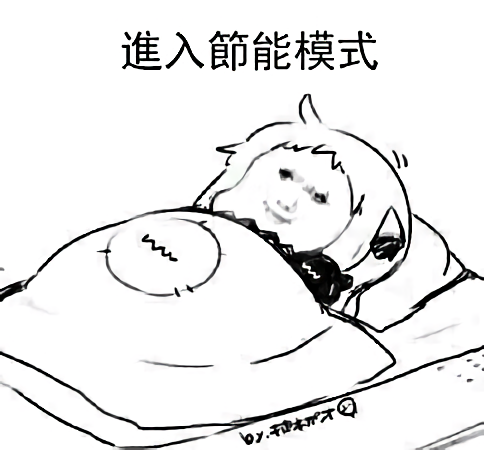dragon: (263, 166, 332, 231)
